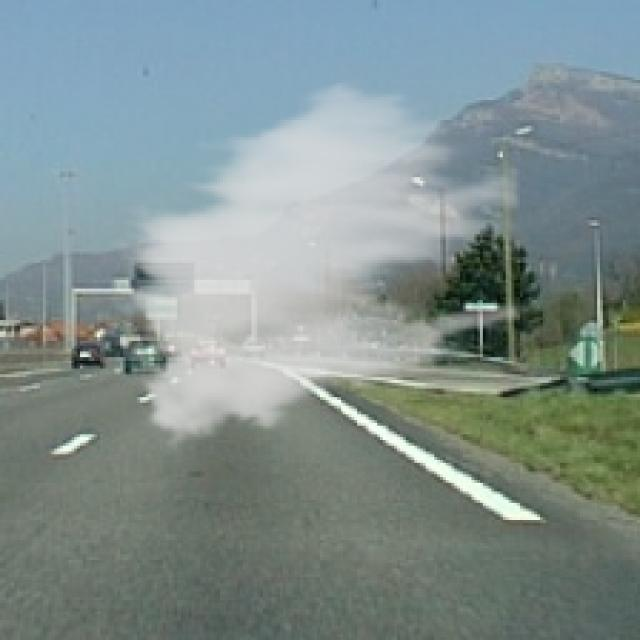Smoke: (111, 72, 520, 457)
